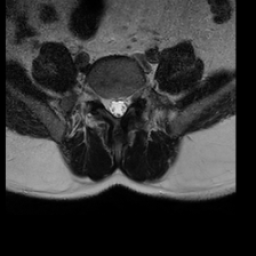CCS_normal: (113, 91, 120, 121)
LFS_normal: (128, 87, 137, 111)
LLS_normal: (121, 92, 128, 118)
RFS_normal: (95, 87, 104, 111)
RLS_normal: (105, 90, 113, 119)
